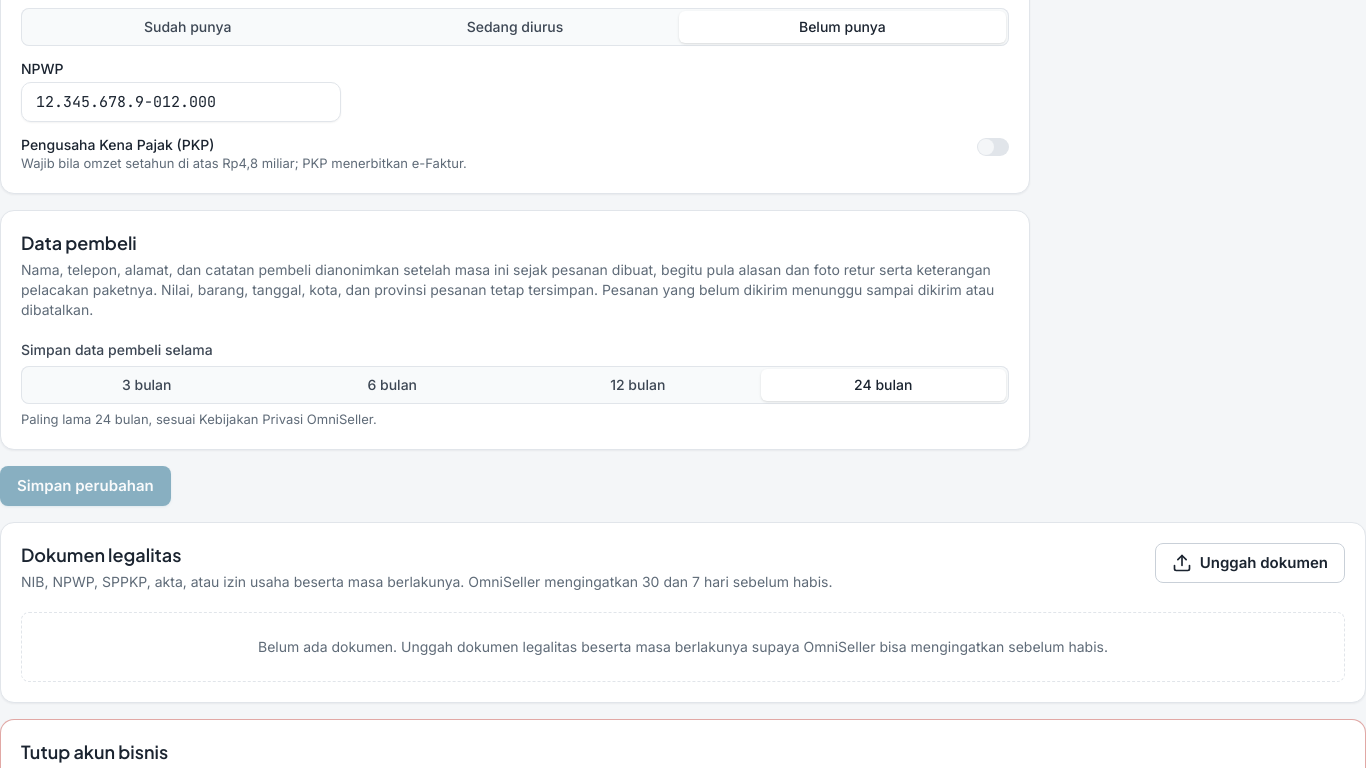
Scenario: Profil Bisnis & Legalitas › keeps buyer data for the chosen months, and asks before shortening it for good
(page scrolled)
Check: the radio button labelled "24 bulan" is checked, box left=760, top=369, right=1006, bottom=401
Click the radio button labelled "6 bulan". click: click(392, 384)
box: left=368, top=376, right=417, bottom=393
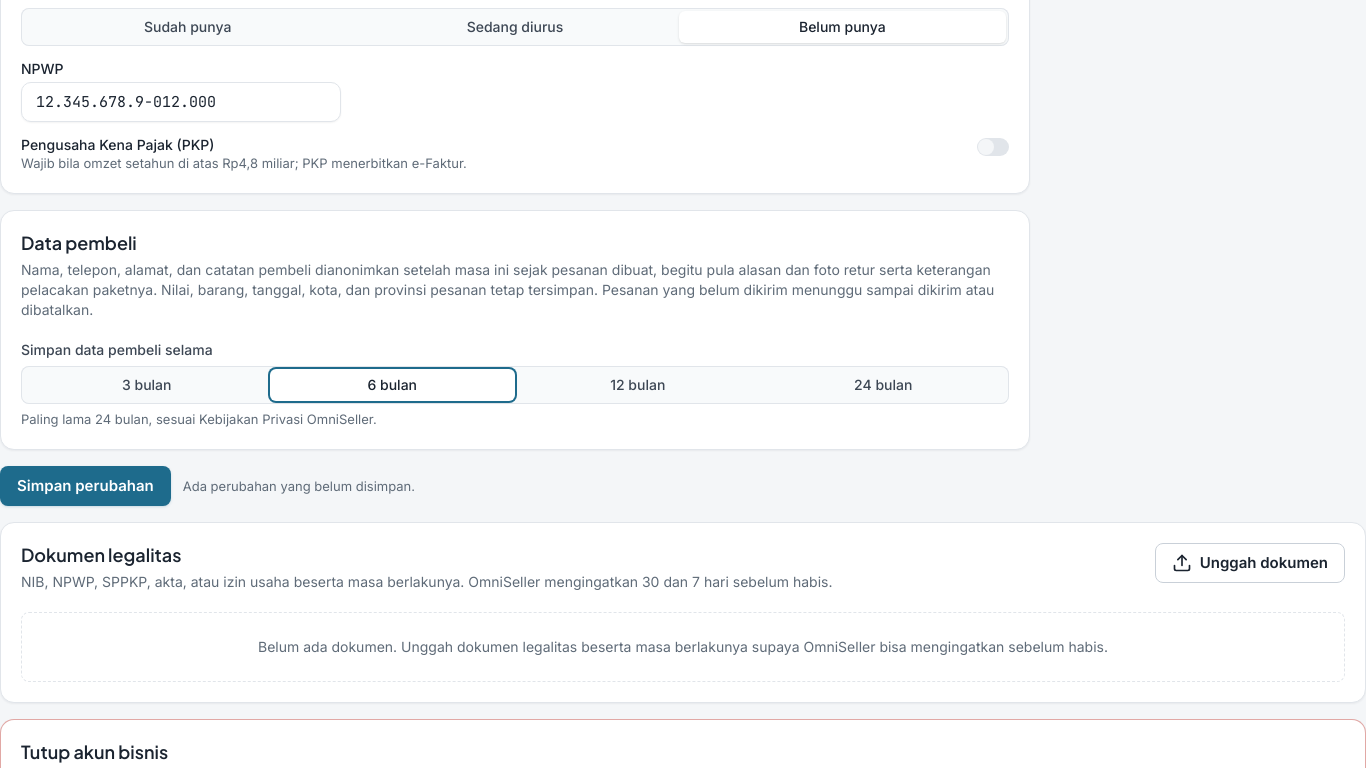
Click the button "Simpan perubahan". click: click(85, 486)
box: left=0, top=466, right=171, bottom=506
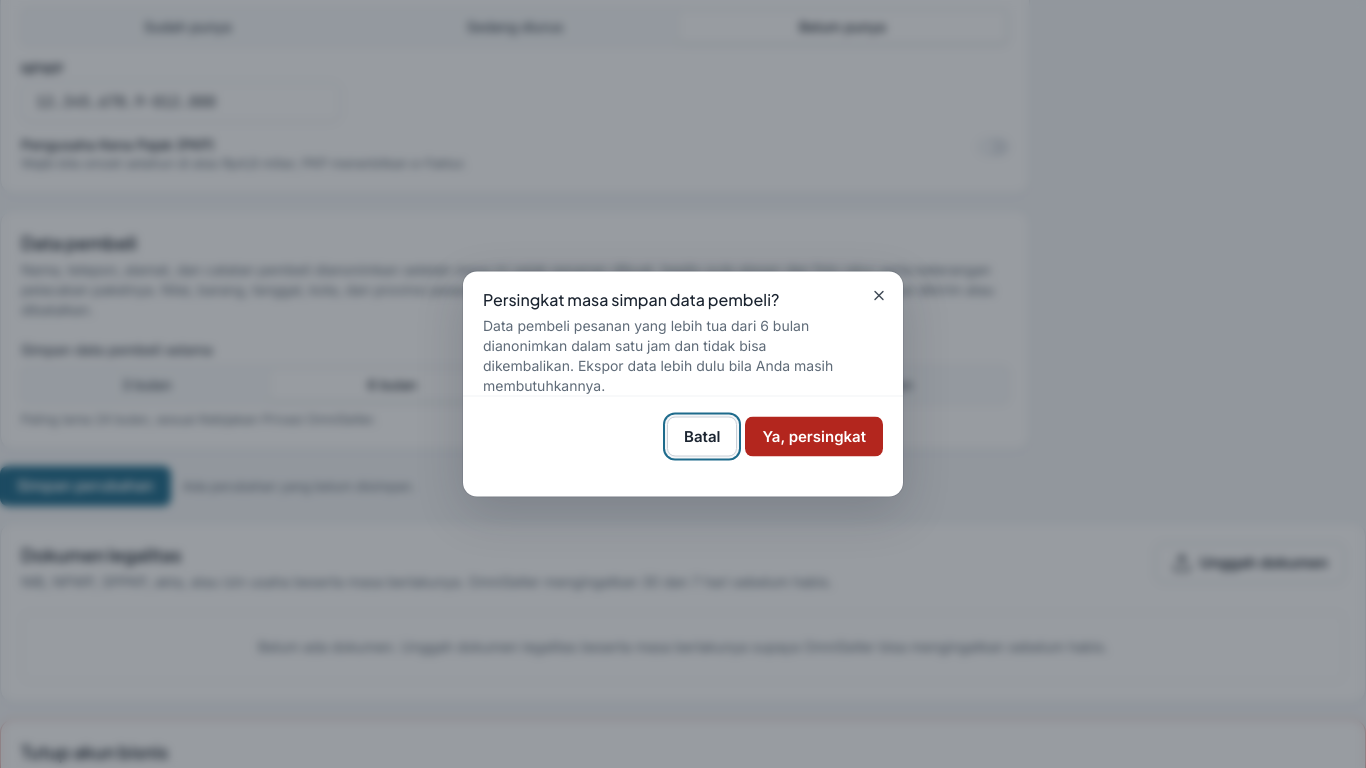
Check: the dialog "Persingkat masa simpan data pembeli?" shows "lebih tua dari 6 bulan dianonimkan dalam satu jam dan tidak bisa dikembalikan", box left=483, top=316, right=833, bottom=394
Click the button "Batal". click: click(702, 436)
box: left=667, top=416, right=737, bottom=456
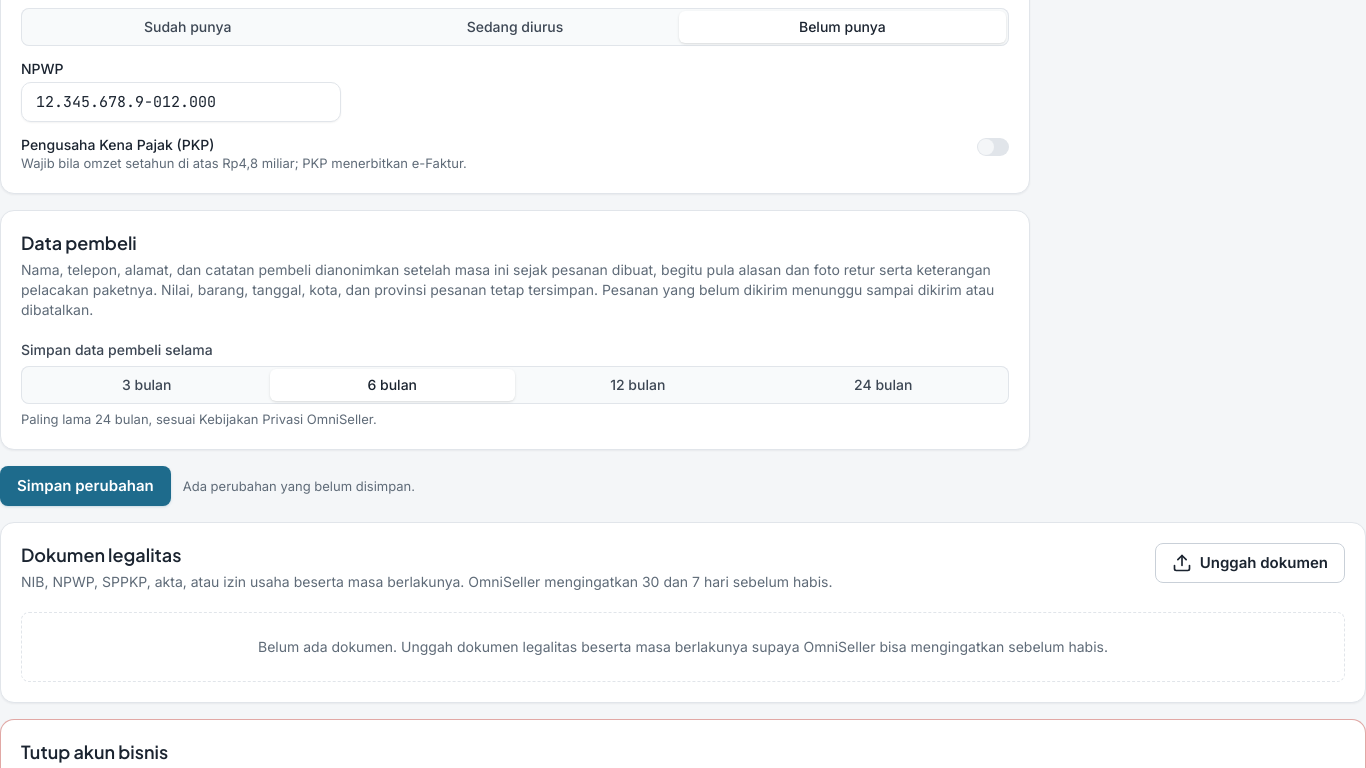
Click the button "Simpan perubahan". click: click(85, 486)
box: left=0, top=466, right=171, bottom=506
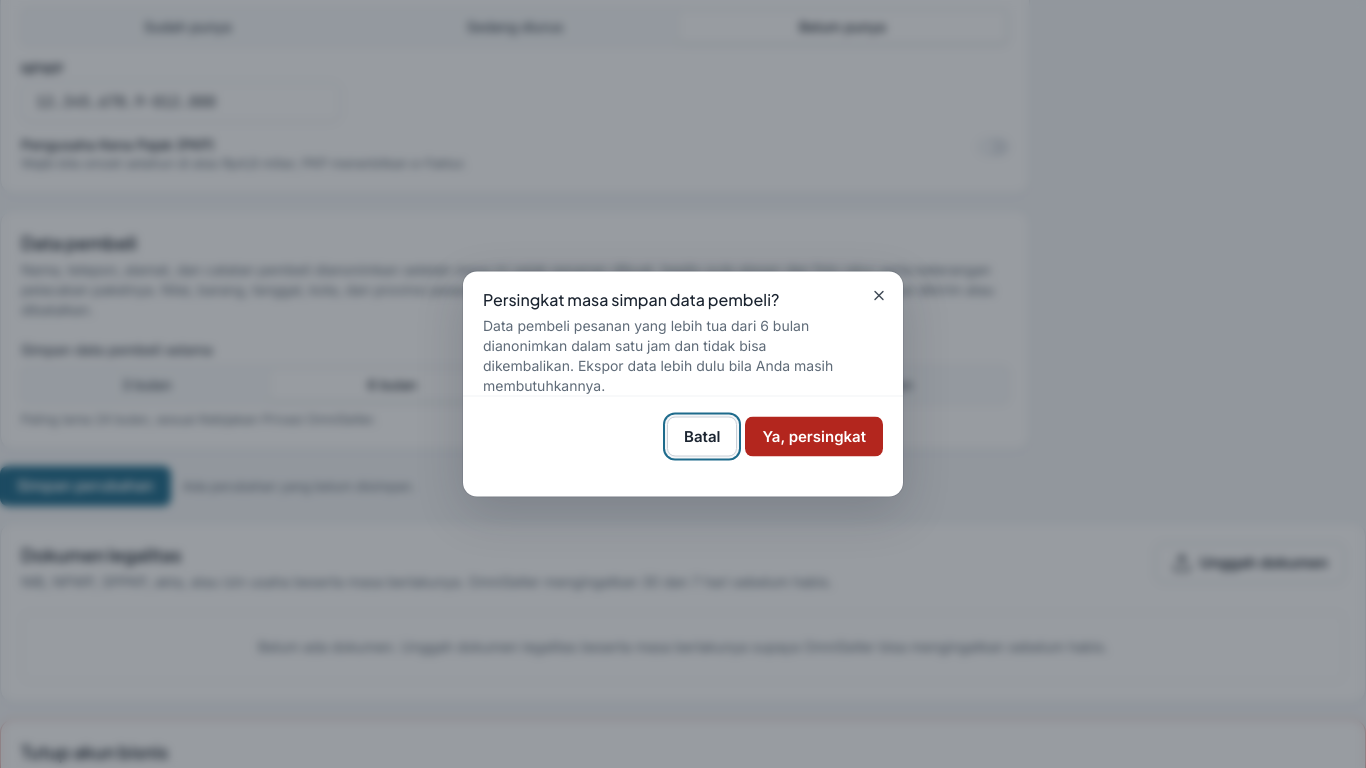
Click the button "Ya, persingkat". click: click(814, 436)
box: left=745, top=416, right=883, bottom=456
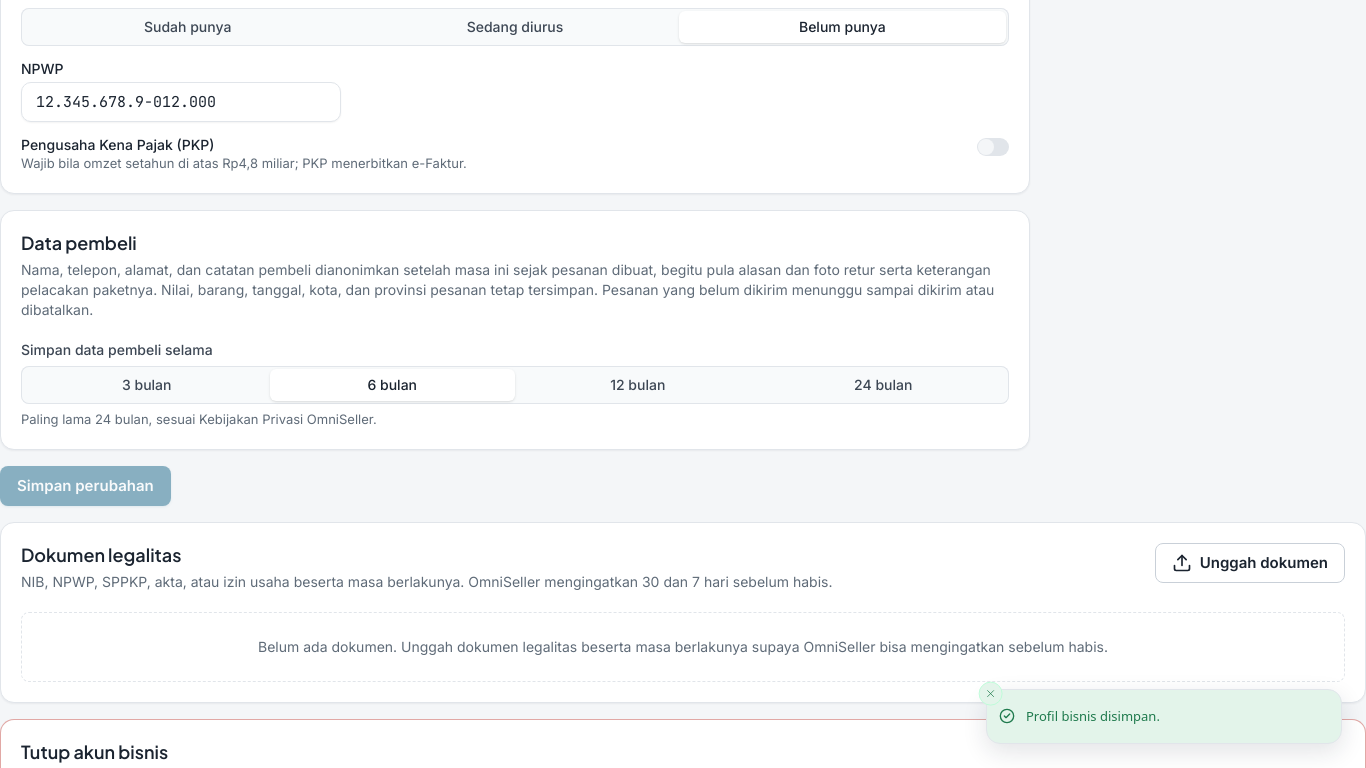
Check: the text "Profil bisnis disimpan." is shown, box left=1026, top=706, right=1160, bottom=727
